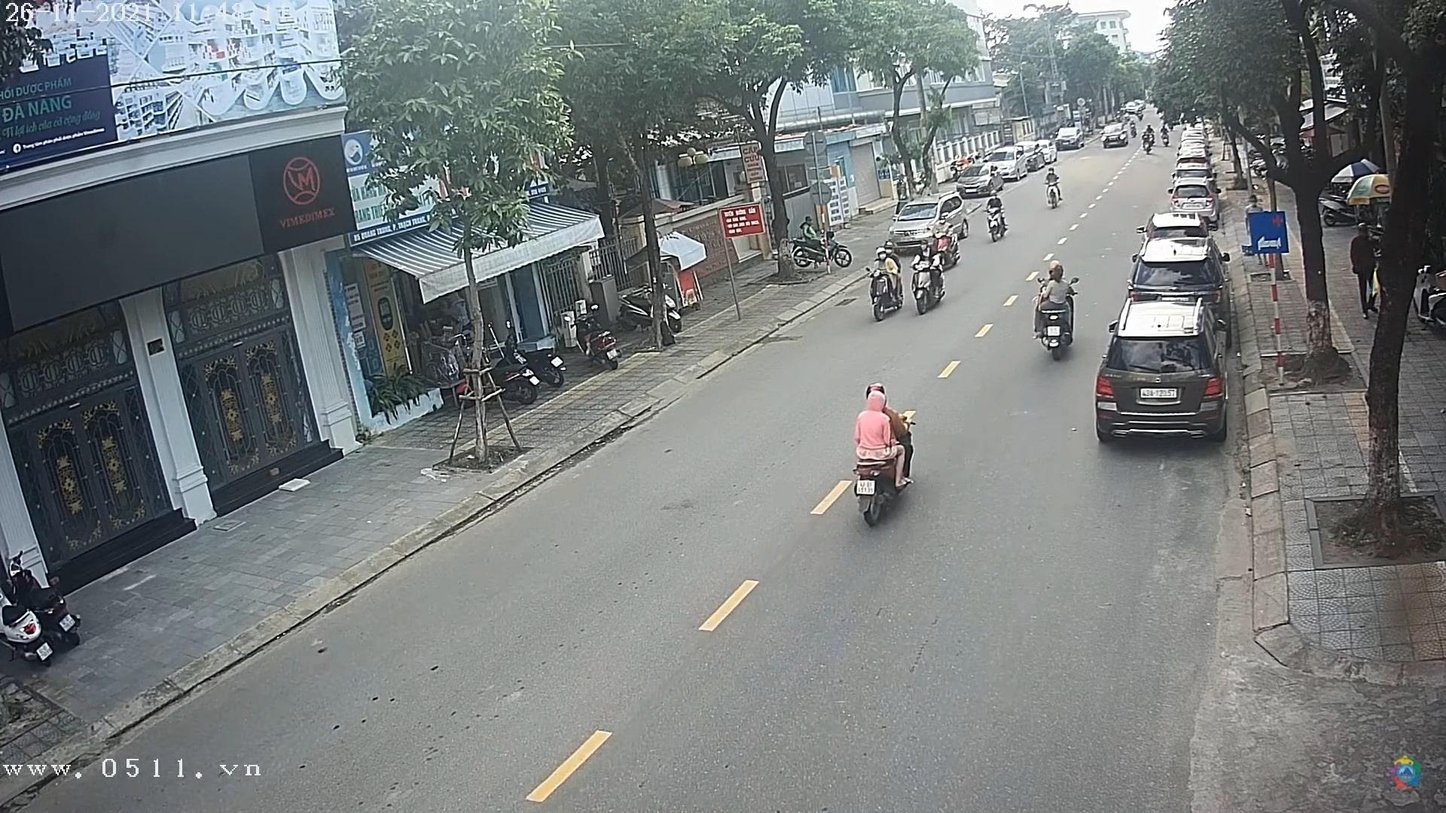car: (1097, 307, 1226, 444), (1134, 232, 1220, 290), (1168, 185, 1213, 212), (1057, 126, 1086, 149)
motorbike: (855, 459, 914, 528), (1034, 290, 1079, 352), (868, 264, 904, 326), (914, 266, 951, 315), (984, 202, 1012, 246)
